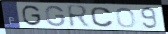9: (141, 6, 160, 30)
C: (89, 6, 115, 28)
G: (45, 5, 67, 28), (21, 4, 43, 27)
O: (115, 7, 137, 29)
R: (66, 4, 92, 29)
